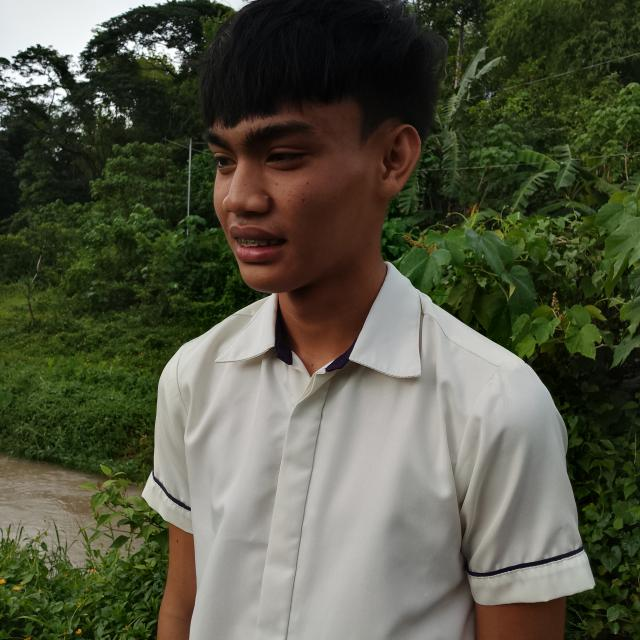education_male_uniform: (125, 224, 621, 640)
